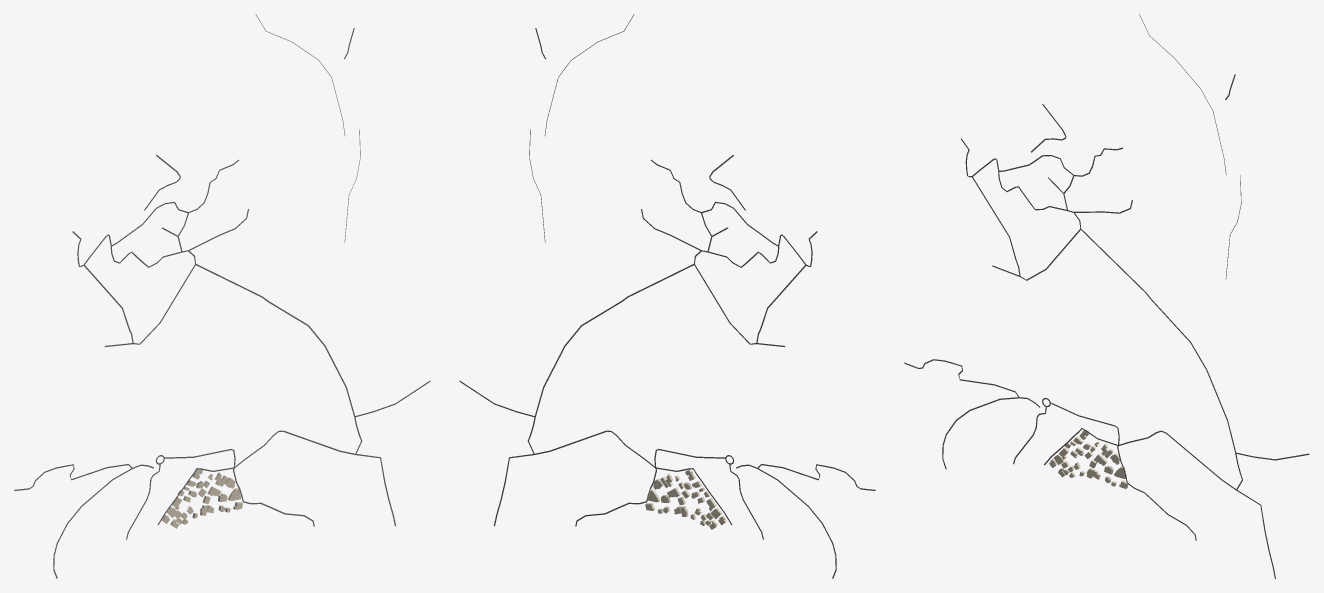
File: historic-palestine-09_31_3514_3252.glb
The picture shows the model from 3 angles, left to right: view 1: azimuth 30°, elevation 25°; view 2: azimuth 150°, elevation 25°; view 3: azimuth 330°, elevation 25°; orthographic projection. The views are drawn at different scales.
Visible parts, largest first — view 1: Road .005; view 2: Road .005; view 3: Road .005, Road .006.
Boxes of the visible parts, left/top/right/bottom form: Road .005: left=157, top=430, right=395, bottom=526; Road .005: left=494, top=430, right=732, bottom=526; Road .005: left=1044, top=428, right=1275, bottom=578; Road .006: left=1081, top=229, right=1242, bottom=489.
Bounding box in the file's own units: 1088 × 1364 × 8.7.
